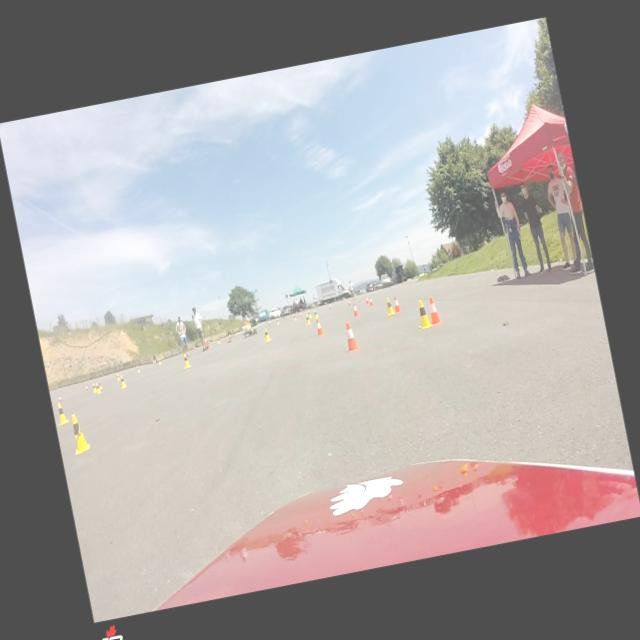orange_cone: (426, 296, 444, 326), (343, 322, 360, 353), (315, 318, 324, 336), (393, 296, 401, 313), (352, 304, 358, 316), (369, 296, 374, 306), (366, 296, 370, 304), (58, 395, 62, 403), (85, 385, 89, 391), (348, 300, 351, 305), (330, 304, 332, 310), (208, 344, 210, 349), (194, 346, 196, 351), (269, 320, 271, 325), (154, 360, 156, 364), (300, 313, 302, 317)
yellow_cone: (68, 412, 91, 455), (413, 298, 432, 329), (54, 402, 70, 426), (384, 296, 395, 316), (182, 354, 192, 368), (119, 374, 127, 388), (264, 328, 272, 342), (304, 314, 312, 326), (95, 381, 102, 394), (92, 382, 98, 393), (98, 380, 104, 390), (314, 310, 318, 320), (307, 310, 312, 318), (293, 314, 297, 322), (117, 372, 120, 380), (136, 366, 140, 372), (158, 360, 162, 366), (276, 319, 280, 325), (218, 338, 220, 343)
